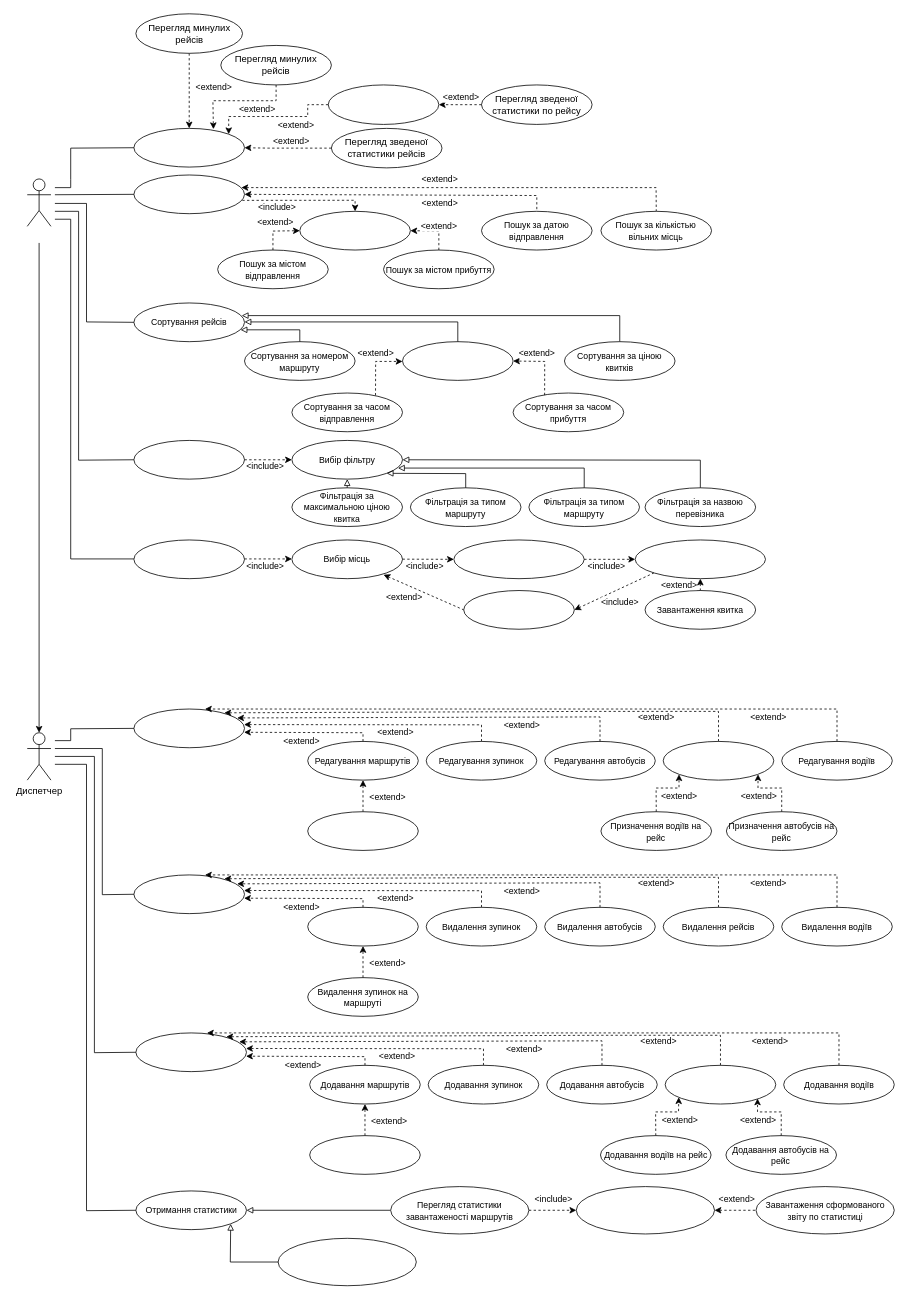
Some shapes in this 909 by 1300 pixel diagram are drawn without their labels. The centre of each missing label's shape, as x and y in pixels:
"Введення даних пасажирів" belongs at pixel 518 559.
"Вибір переліку дат" belongs at pixel 645 1210.
"Видалення даних" belongs at pixel 189 894.
"Видалення маршрутів" belongs at pixel 362 926.
"Додавання даних" belongs at pixel 190 1052.
"Додавання зупинок на маршрут" belongs at pixel 364 1154.
"Додавання рейсів" belongs at pixel 720 1084.
"Користувач" belongs at pixel 38 202.
"Перегляд детальної інформації про рейс" belongs at pixel 383 104.
"Перегляд поточного розкладу" belongs at pixel 189 147.
"Перегляд статистики використання автобусів" belongs at pixel 346 1262.
"Покупка квитка" belongs at pixel 189 559.
"Пошук за містом" belongs at pixel 354 230.
"Пошук рейсів" belongs at pixel 189 194.
"Підтвердження та оплата" belongs at pixel 700 559.
"Редагування даних" belongs at pixel 189 728.
"Редагування зупинок на маршруті" belongs at pixel 362 830.
"Редагування рейсів" belongs at pixel 718 760.
"Розрахунок ціни" belongs at pixel 518 609.
"Сортування за часом" belongs at pixel 457 360.
"Фільтрація рейсів" belongs at pixel 189 459.
